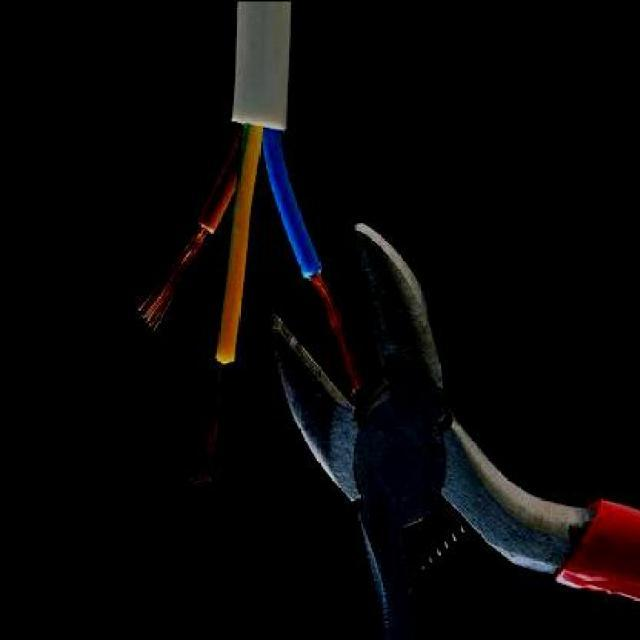pliers: (262, 212, 636, 638)
